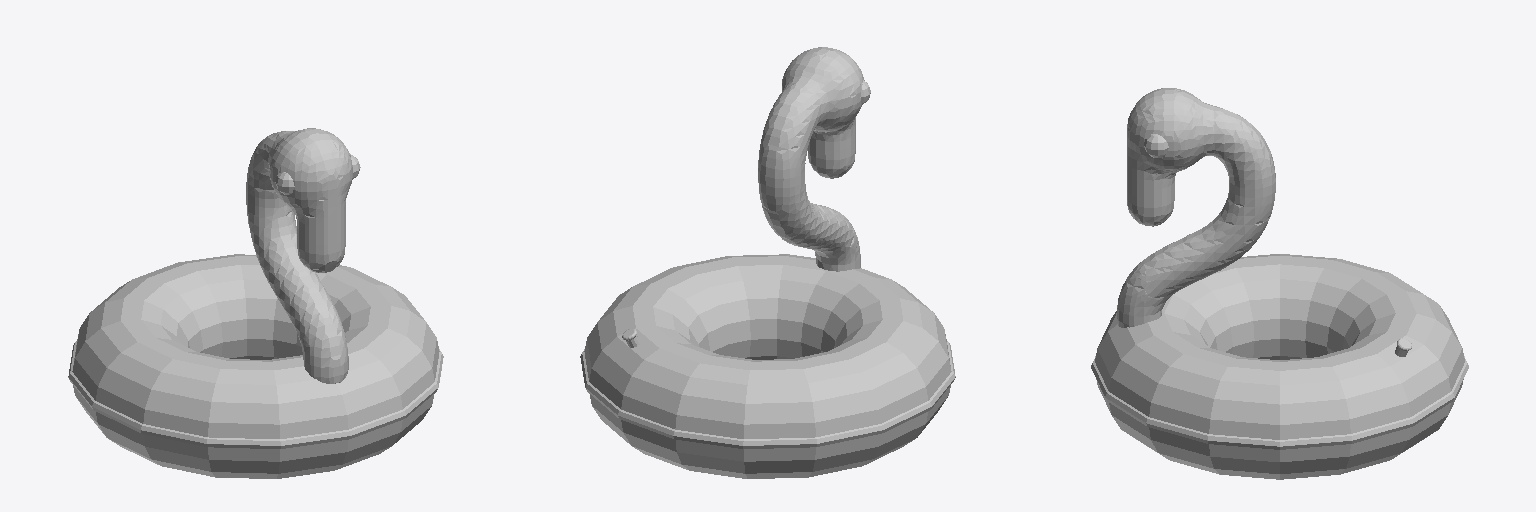
File: flammand.obj
3 views of the same model, side by side, from view 1: azimuth 30°, elevation 25°; view 2: azimuth 150°, elevation 25°; view 3: azimuth 270°, elevation 25° (orthographic).
Parts seen in each view (by area): view 1: Current; view 2: Current; view 3: Current.
Boxes of the visible parts, x1,y1,x2,y2 form: Current: [68, 128, 443, 478]; Current: [580, 47, 955, 478]; Current: [1091, 88, 1468, 479].
Bounding box in the file's own units: 600 × 574 × 600.